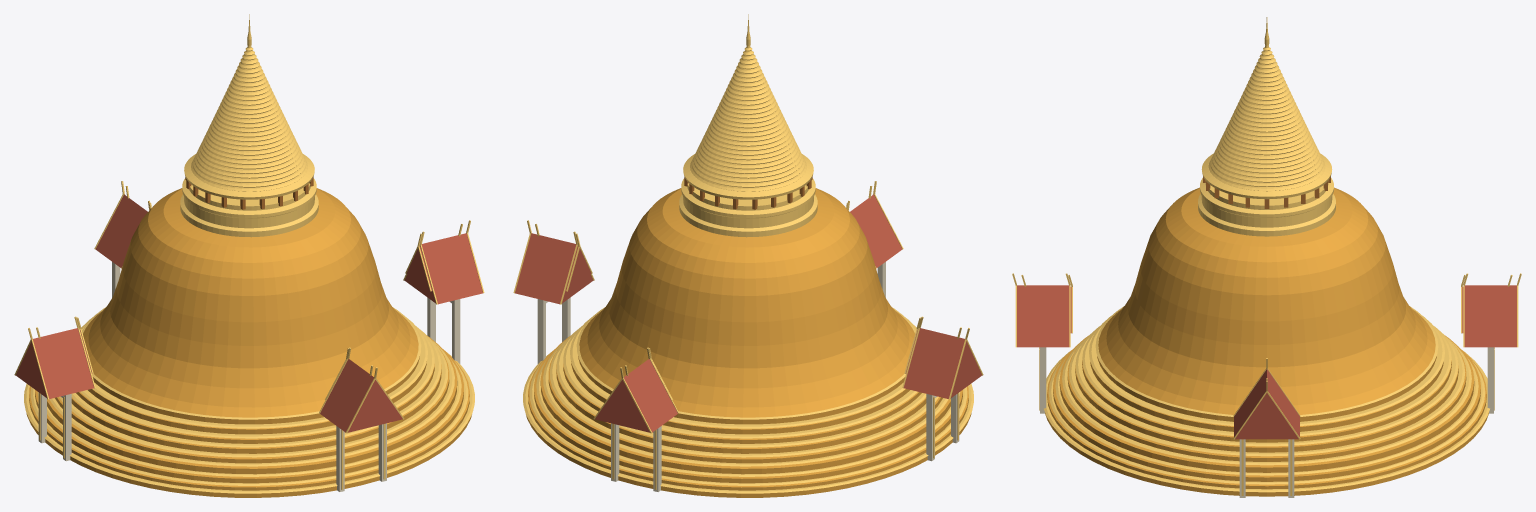
The model's file is HNP_Chedi.fbx.
3 views of the same model, side by side, from view 1: azimuth 30°, elevation 25°; view 2: azimuth 150°, elevation 25°; view 3: azimuth 270°, elevation 25° (orthographic).
Parts seen in each view (by area): view 1: Chedi_HNPW_Gold, Chedi_HNPW_GoldLight, Chedi_HNPW_Roof, Chedi_HNPW_Ivory, Chedi_HNPW_Copper; view 2: Chedi_HNPW_Gold, Chedi_HNPW_GoldLight, Chedi_HNPW_Roof, Chedi_HNPW_Ivory, Chedi_HNPW_Copper; view 3: Chedi_HNPW_Gold, Chedi_HNPW_GoldLight, Chedi_HNPW_Roof, Chedi_HNPW_Ivory.
Part boxes in pixels (bbox=[...]): Chedi_HNPW_Gold: bbox=[26, 188, 471, 497]; Chedi_HNPW_GoldLight: bbox=[14, 14, 484, 493]; Chedi_HNPW_Roof: bbox=[15, 194, 482, 432]; Chedi_HNPW_Ivory: bbox=[38, 262, 460, 491]; Chedi_HNPW_Copper: bbox=[185, 177, 313, 209]; Chedi_HNPW_Gold: bbox=[526, 188, 971, 497]; Chedi_HNPW_GoldLight: bbox=[513, 14, 983, 493]; Chedi_HNPW_Roof: bbox=[515, 194, 982, 432]; Chedi_HNPW_Ivory: bbox=[537, 262, 959, 491]; Chedi_HNPW_Copper: bbox=[684, 177, 812, 209]; Chedi_HNPW_Gold: bbox=[1045, 187, 1488, 496]; Chedi_HNPW_GoldLight: bbox=[1012, 17, 1521, 495]; Chedi_HNPW_Roof: bbox=[1017, 285, 1516, 439]; Chedi_HNPW_Ivory: bbox=[1040, 347, 1493, 497].
Size of the model in its own units: 5235 by 4400 by 5235.
